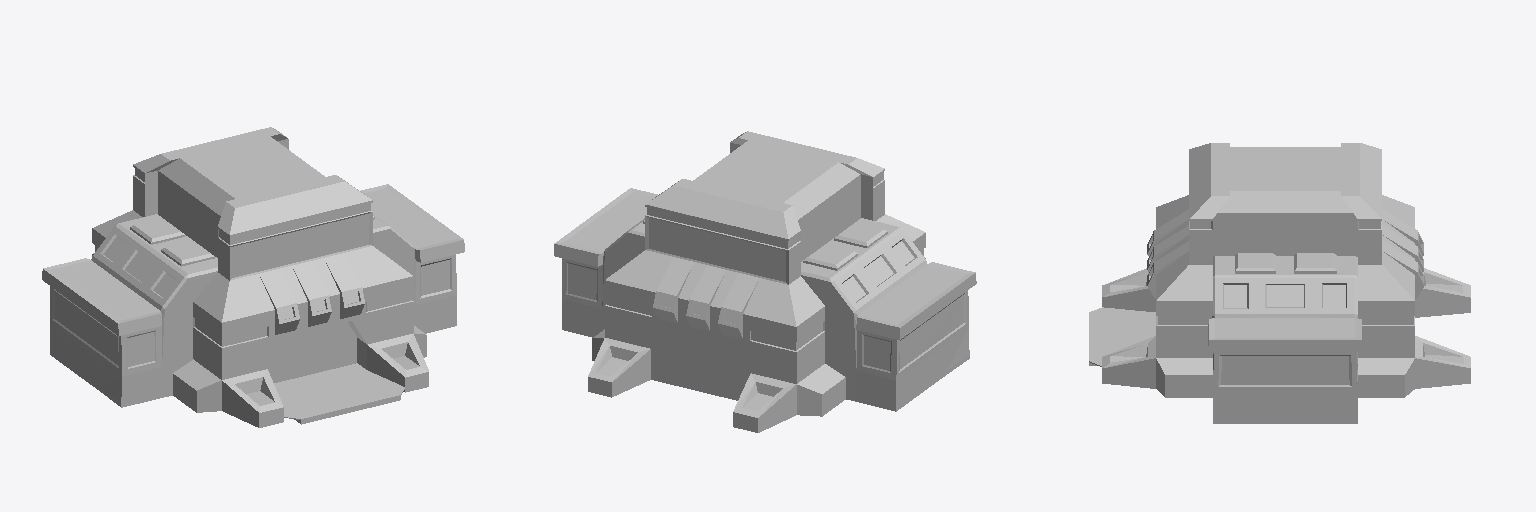
The model's file is hospital.obj.
3 renders of one model, left to right at view 1: azimuth 30°, elevation 25°; view 2: azimuth 150°, elevation 25°; view 3: azimuth 270°, elevation 25°, orthographic.
Parts seen in each view (by area): view 1: hospital_Cube; view 2: hospital_Cube; view 3: hospital_Cube.
Part boxes in pixels (x1,y1,x2,y2): hospital_Cube: (42,127,464,427); hospital_Cube: (554,131,976,432); hospital_Cube: (1089,143,1470,423).
Bounding box in the file's own units: 312 × 149 × 299.